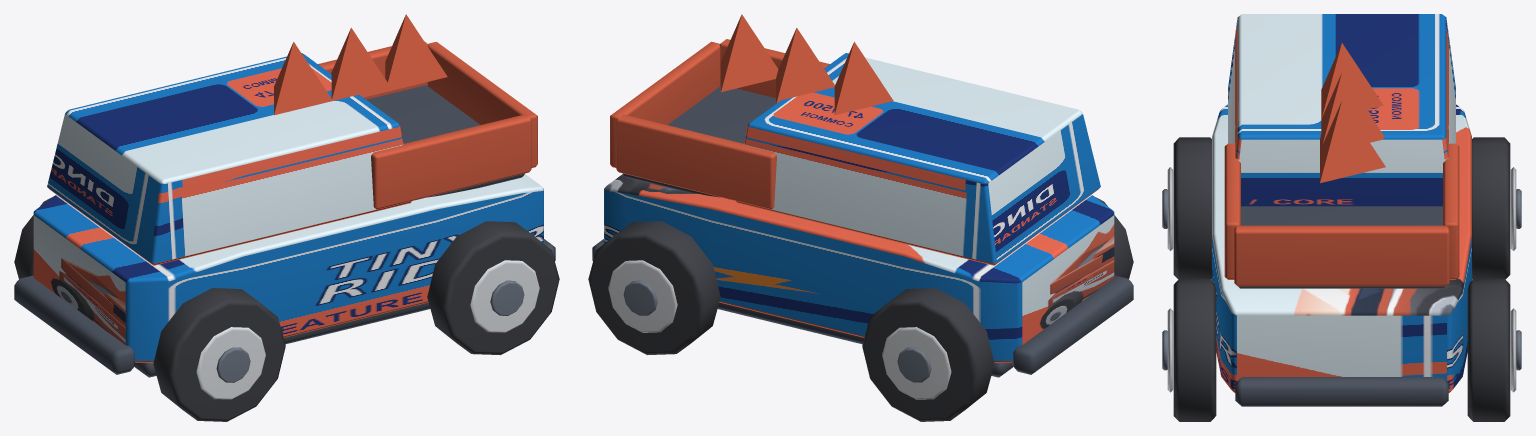
3 views of the same model, side by side, from view 1: azimuth 30°, elevation 25°; view 2: azimuth 150°, elevation 25°; view 3: azimuth 270°, elevation 25° (orthographic). The views are drawn at different scales.
Parts seen in each view (by area): view 1: CR-03_cabin, CR-03_connected_shell, Tire.002, Tire, cargo side, front bumper, cargo tail, cargo floor, Rim, Rim.002, back plate.002, back plate.001 (+6 smaller); view 2: CR-03_cabin, CR-03_connected_shell, Tire.003, Tire.001, cargo side.001, cargo tail, front bumper, cargo floor, Rim.001, Rim.003, back plate.002, back plate.001 (+6 smaller); view 3: CR-03_cabin, CR-03_connected_shell, cargo tail, rear bumper, Tire.002, Tire.003, Tire, Tire.001, cargo floor, back plate.002, cargo side, cargo side.001 (+6 smaller).
Part boxes in pixels (box(x1,y1,x2,y2)): CR-03_cabin: box(47, 53, 411, 265); CR-03_connected_shell: box(33, 174, 543, 362); Tire.002: box(427, 221, 559, 355); Tire: box(153, 288, 285, 421); cargo side: box(371, 114, 531, 209); front bumper: box(14, 275, 135, 374); cargo tail: box(427, 41, 537, 167); cargo floor: box(366, 85, 524, 197); Rim: box(196, 327, 265, 399); Rim.002: box(470, 260, 539, 332); back plate.002: box(385, 14, 447, 90); back plate.001: box(331, 27, 392, 100); CR-03_cabin: box(736, 53, 1100, 265); CR-03_connected_shell: box(604, 174, 1114, 362); Tire.003: box(588, 221, 720, 355); Tire.001: box(862, 288, 994, 421); cargo side.001: box(616, 114, 776, 209); cargo tail: box(610, 41, 720, 167); front bumper: box(1012, 275, 1133, 374); cargo floor: box(623, 86, 775, 197); Rim.001: box(882, 327, 951, 399); Rim.003: box(608, 260, 677, 332); back plate.002: box(721, 14, 778, 92); back plate.001: box(776, 28, 834, 103); CR-03_cabin: box(1228, 14, 1455, 206); CR-03_connected_shell: box(1212, 104, 1471, 392); cargo tail: box(1234, 225, 1449, 286); rear bumper: box(1235, 377, 1448, 406); Tire.002: box(1173, 278, 1216, 421); Tire.003: box(1467, 278, 1510, 421); Tire: box(1173, 137, 1211, 279); Tire.001: box(1472, 137, 1510, 279); cargo floor: box(1238, 206, 1445, 288); back plate.002: box(1320, 101, 1385, 183); cargo side: box(1224, 143, 1240, 279); cargo side.001: box(1443, 143, 1459, 279).
Size of the model in its own units: 333 by 206 by 220.
